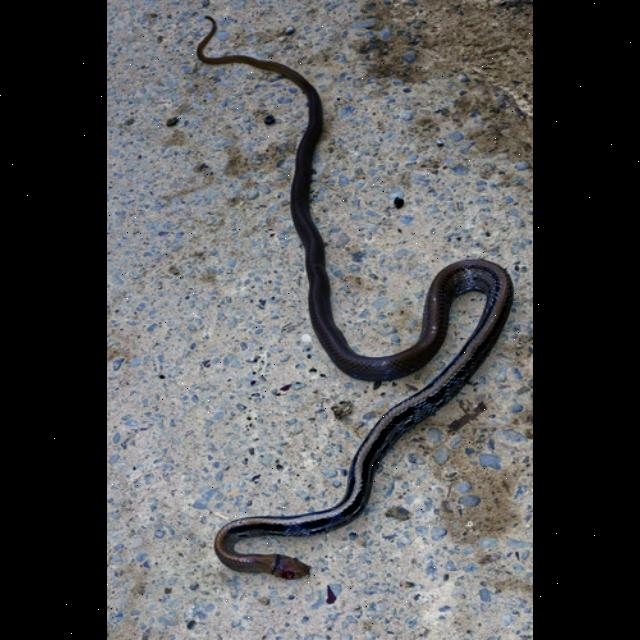snake: (177, 11, 516, 596)
